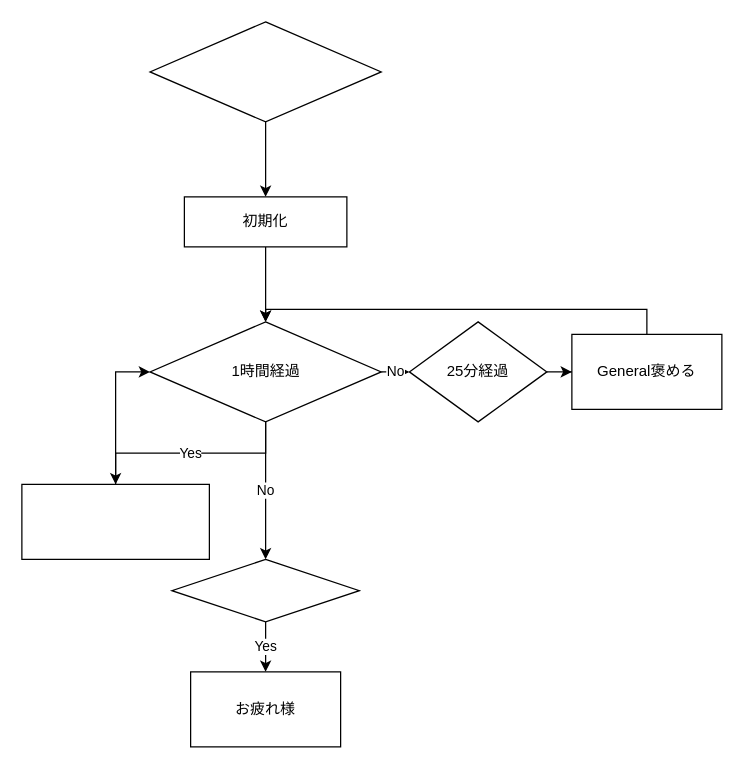
This 744x769 diagram has some shape labels left out. The centre of each missing label's shape, as x and y in pixels:
"パフォーマンス褒める" belongs at (115,521).
"ベッドに行く" belongs at (265,590).
"１日のはじめに座る（午後５時くらいを切れ目に）" belongs at (265,71).
